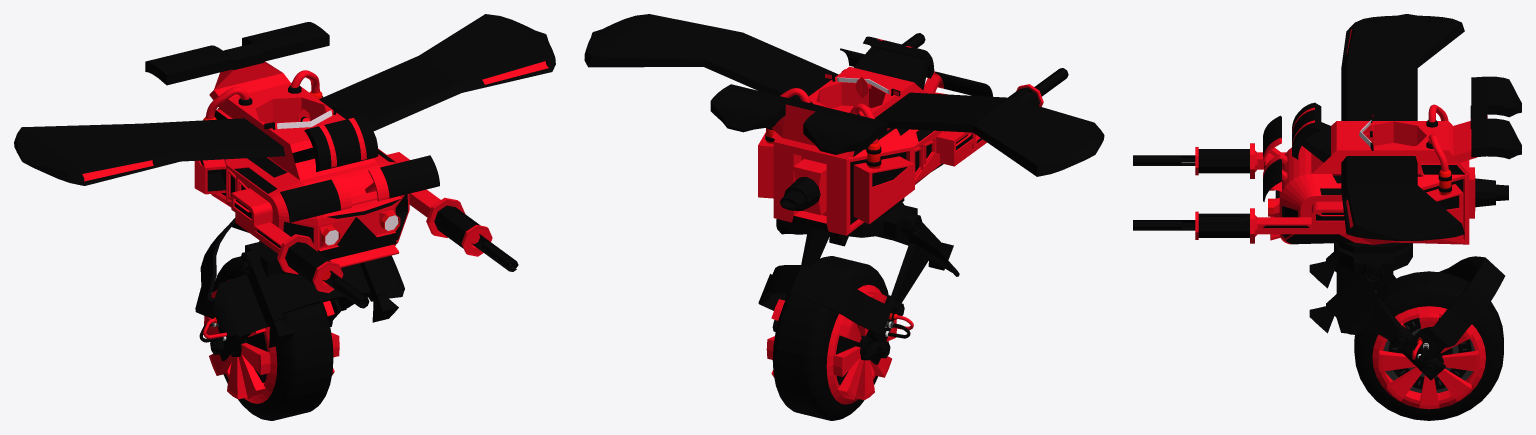
Rendered from RoboticoMalvado.fbx.
3 renders of one model, left to right at view 1: azimuth 30°, elevation 25°; view 2: azimuth 150°, elevation 25°; view 3: azimuth 270°, elevation 25°, orthographic. The views are drawn at different scales.
Visible parts, largest first — view 1: Cube.001, Cube, Cube.003, Cube.005; view 2: Cube.001, Cube.003, Cube, Cube.005; view 3: Cube.001, Cube.003, Cube, Cube.005, Cube.002.
Part boxes in pixels (<box>): Cube.001: <box>14,14,555,292</box>; Cube: <box>195,218,404,361</box>; Cube.003: <box>204,256,339,420</box>; Cube.005: <box>322,234,518,308</box>; Cube.001: <box>584,14,1104,235</box>; Cube.003: <box>766,256,896,420</box>; Cube: <box>758,202,959,364</box>; Cube.005: <box>902,33,1068,96</box>; Cube.001: <box>1195,14,1521,244</box>; Cube.003: <box>1354,271,1503,420</box>; Cube: <box>1309,243,1505,380</box>; Cube.005: <box>1133,155,1195,230</box>; Cube.002: <box>1337,242,1410,253</box>.
Size of the model in its own units: 1379 by 857 by 998.
